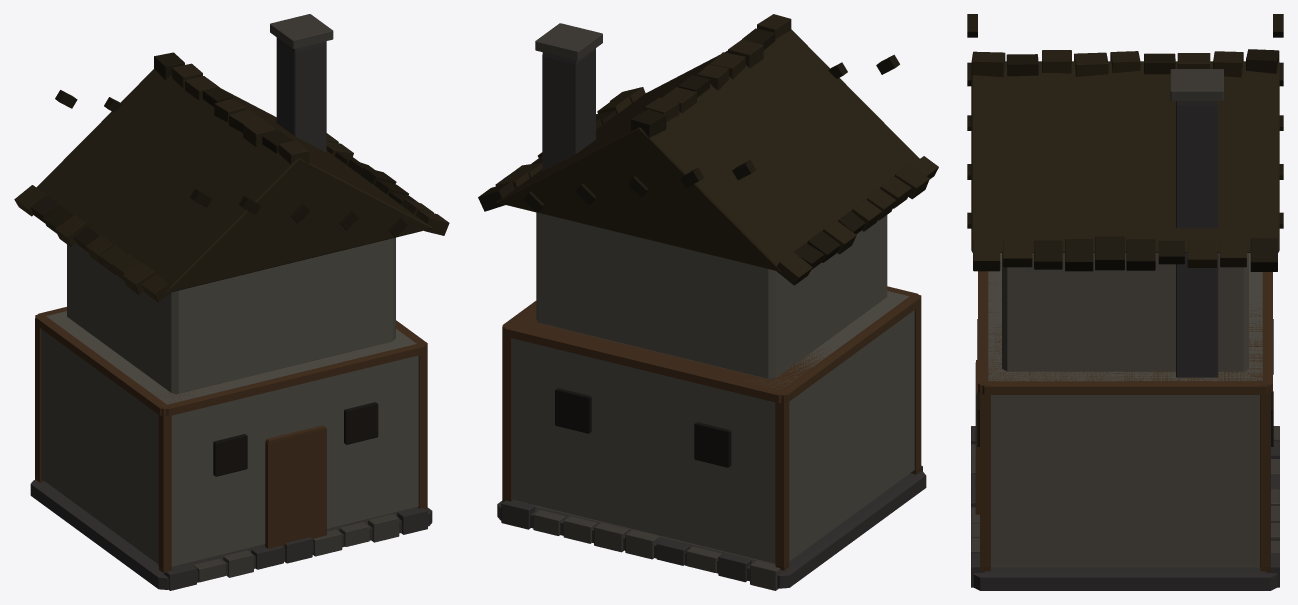
The model's file is house_tall.glb.
3 views of the same model, side by side, from view 1: azimuth 30°, elevation 25°; view 2: azimuth 150°, elevation 25°; view 3: azimuth 270°, elevation 25° (orthographic). The views are drawn at different scales.
Parts seen in each view (by area): view 1: house_tall; view 2: house_tall; view 3: house_tall.
Boxes of the visible parts, box(x1,y1,x2,y2) form: house_tall: box(14, 14, 449, 590); house_tall: box(478, 14, 938, 590); house_tall: box(967, 14, 1283, 590).
Size of the model in its own units: 5.79 by 7.97 by 4.63.
